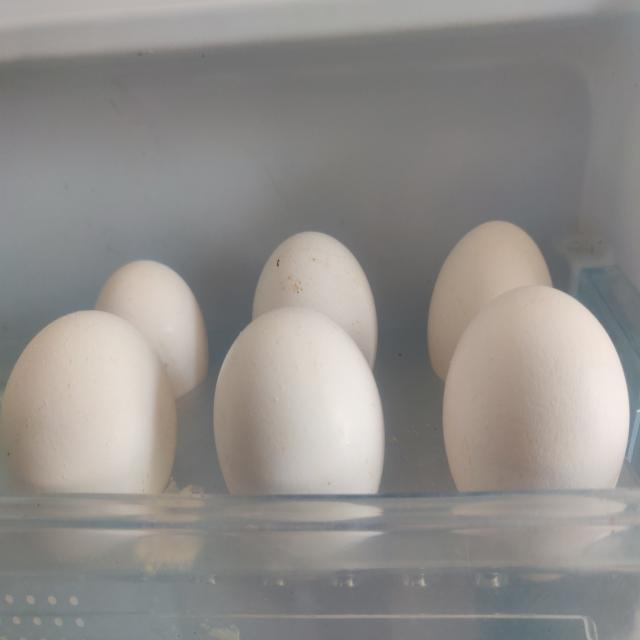Egg: (442, 245, 633, 495), (0, 310, 179, 497), (212, 308, 386, 499), (251, 231, 379, 369), (94, 259, 210, 401)
